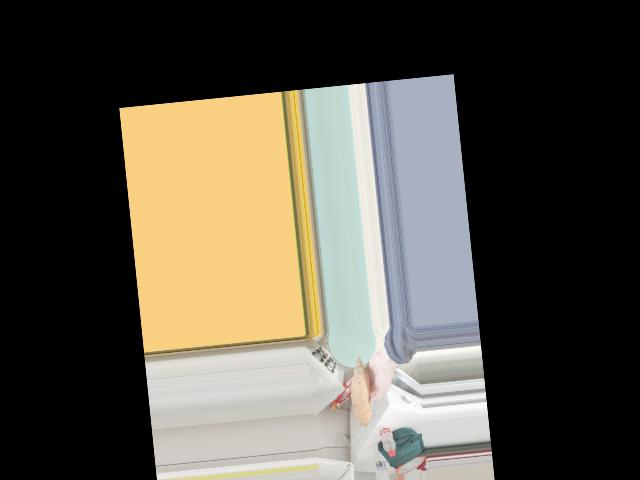sweet_potato: (351, 368, 377, 418)
